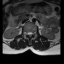CCS_normal: (29, 31, 31, 38)
LFS_stenosis: (33, 30, 34, 37)
LLS_normal: (31, 30, 32, 36)
RFS_normal: (25, 30, 27, 36)
RLS_normal: (27, 30, 29, 36)
